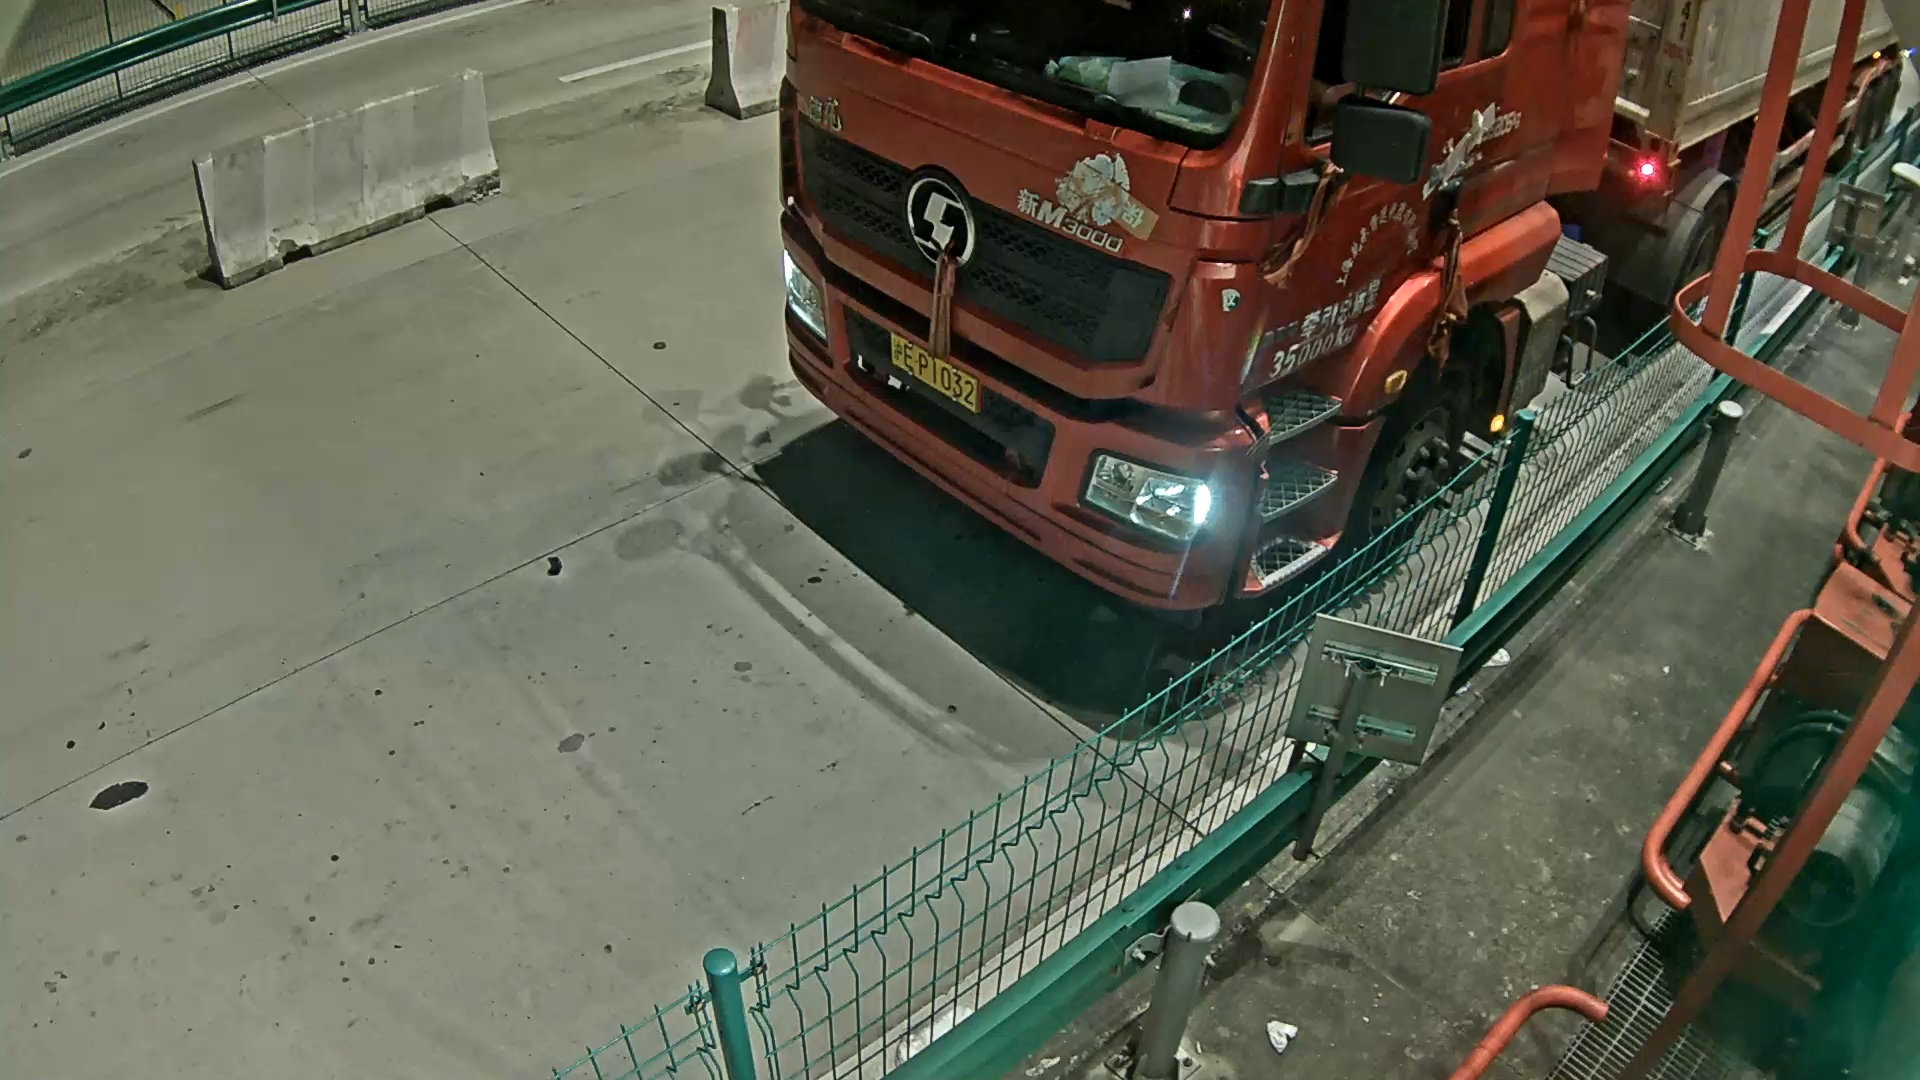head: (759, 11, 1400, 651)
plate: (884, 326, 995, 426)
